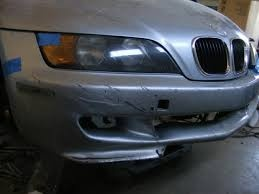Scratch: (71, 82, 166, 116), (17, 72, 58, 101)
